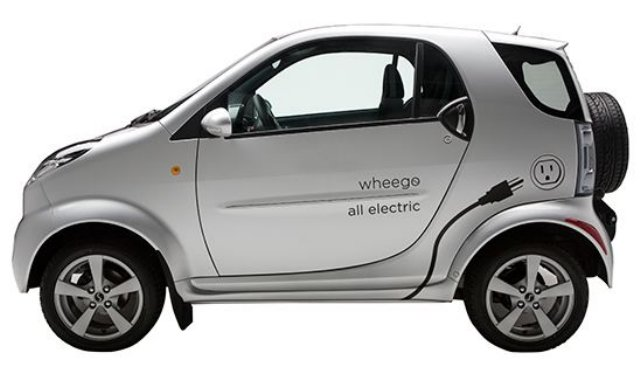Carro: (11, 18, 623, 357)
